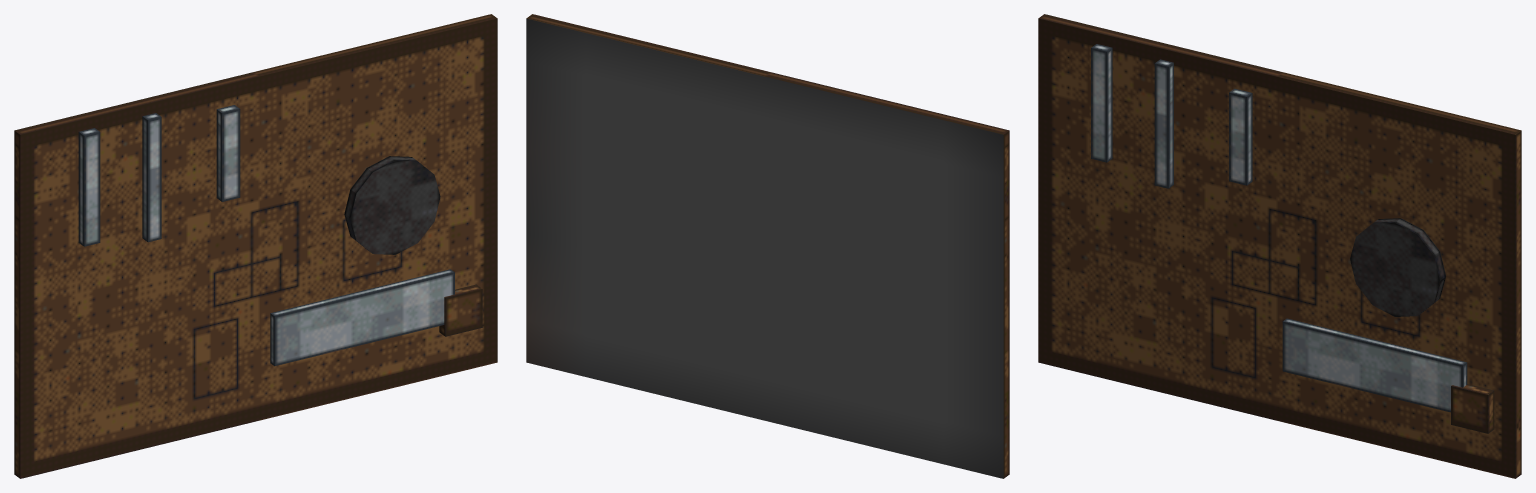
File: SM_ToolBoard_01.fbx
The picture shows the model from 3 angles, left to right: view 1: azimuth 30°, elevation 25°; view 2: azimuth 150°, elevation 25°; view 3: azimuth 330°, elevation 25°; orthographic projection.
Visible parts, largest first — view 1: SM_ToolBoard_01; view 2: SM_ToolBoard_01; view 3: SM_ToolBoard_01.
Part boxes in pixels (box(x1,y1,x2,y2)): SM_ToolBoard_01: box(14, 14, 497, 478); SM_ToolBoard_01: box(526, 14, 1009, 478); SM_ToolBoard_01: box(1038, 14, 1521, 478).
Size of the model in its own units: 0.9 by 0.62 by 0.05.
Materials: 1 (1 with a texture image).
